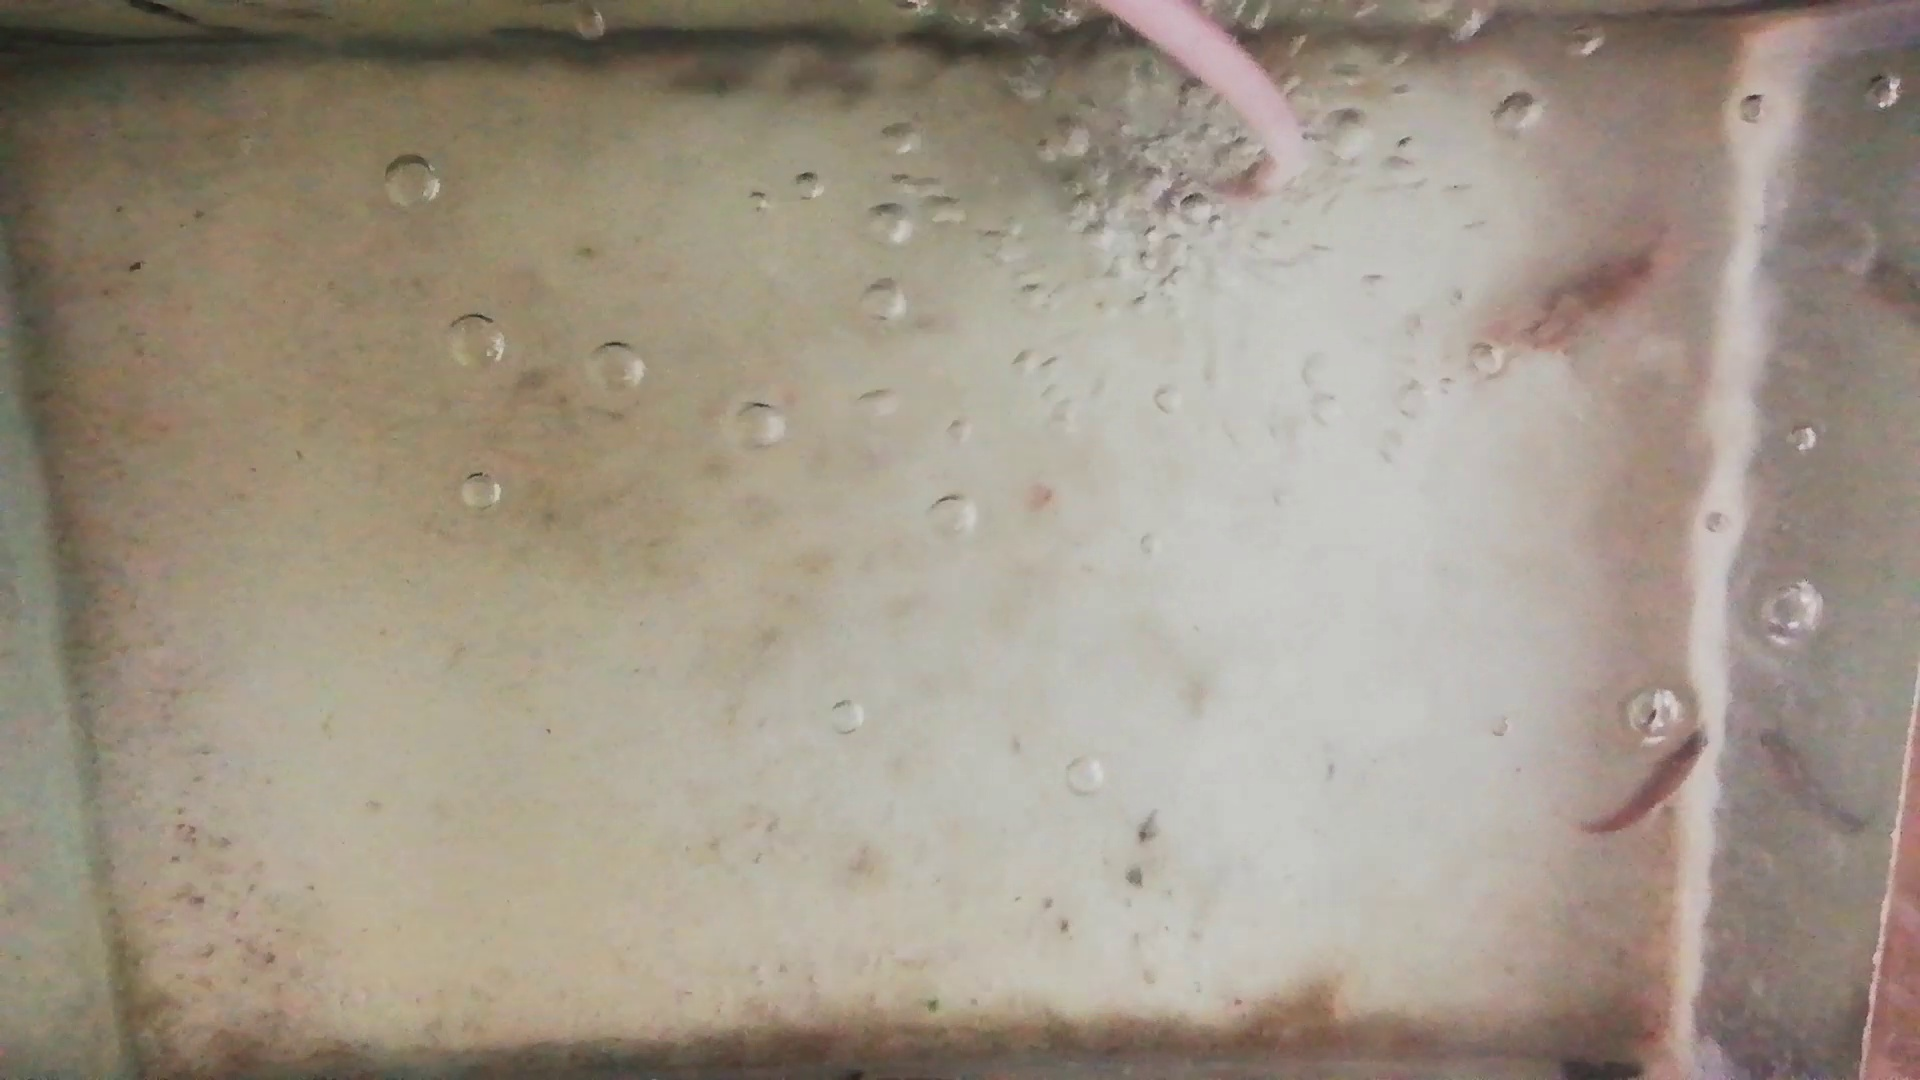fish: (1490, 233, 1677, 357), (1575, 723, 1710, 836)
